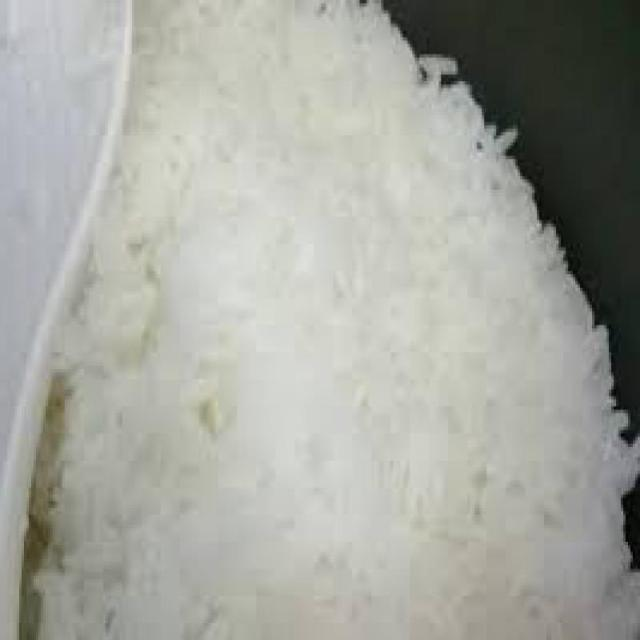nasi_putih: (27, 9, 626, 636)
